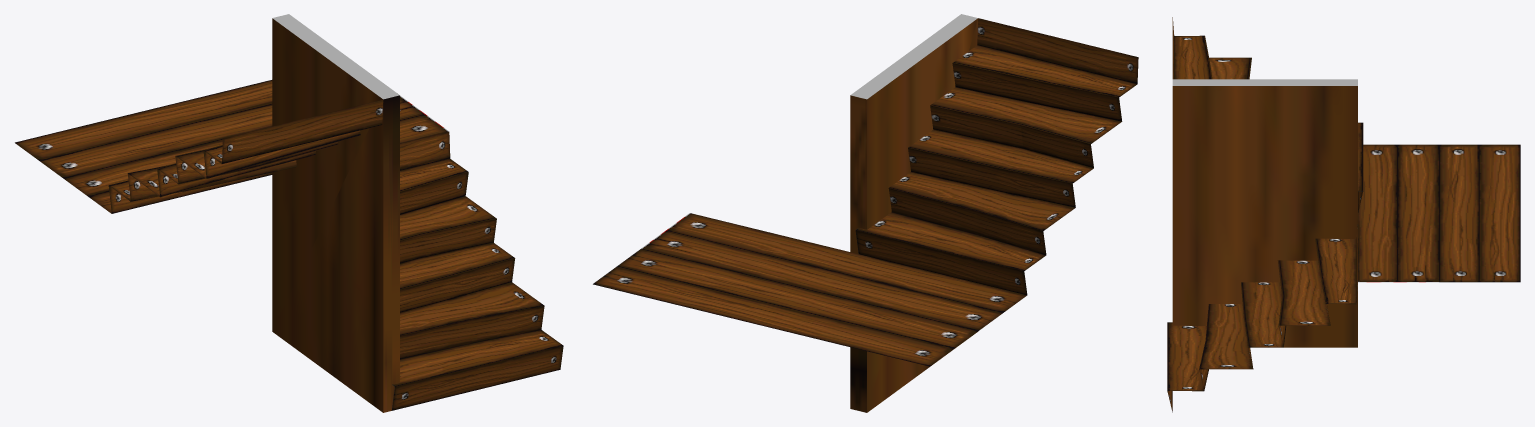
The model's file is TreppeMitTrennwandGedrehtSchmal [Holz]_1732.glb.
3 renders of one model, left to right at view 1: azimuth 30°, elevation 25°; view 2: azimuth 150°, elevation 25°; view 3: azimuth 270°, elevation 25°, orthographic. The views are drawn at different scales.
Parts seen in each view (by area): view 1: pCubeShape3, pPlaneShape24, pPlaneShape1, pPlaneShape19, pPlaneShape18; view 2: pPlaneShape19, pPlaneShape1, pCubeShape3, pPlaneShape18; view 3: pCubeShape3, pPlaneShape1, pPlaneShape24, pPlaneShape19, pPlaneShape18.
Part boxes in pixels (x1,y1,x2,y2): pCubeShape3: (272, 18, 399, 412); pPlaneShape24: (391, 132, 563, 410); pPlaneShape1: (15, 80, 448, 213); pPlaneShape19: (108, 99, 383, 213); pPlaneShape18: (272, 14, 399, 99); pPlaneShape19: (855, 18, 1138, 294); pPlaneShape1: (593, 213, 1026, 366); pCubeShape3: (850, 18, 978, 412); pPlaneShape18: (850, 14, 977, 99); pCubeShape3: (1172, 86, 1357, 347); pPlaneShape1: (1358, 144, 1520, 282); pPlaneShape24: (1167, 220, 1357, 412); pPlaneShape19: (1172, 17, 1363, 212); pPlaneShape18: (1172, 79, 1357, 85).
Bounding box in the file's own units: 0.4385 × 0.3891 × 0.4763.
Materials: 5 (4 with a texture image).
